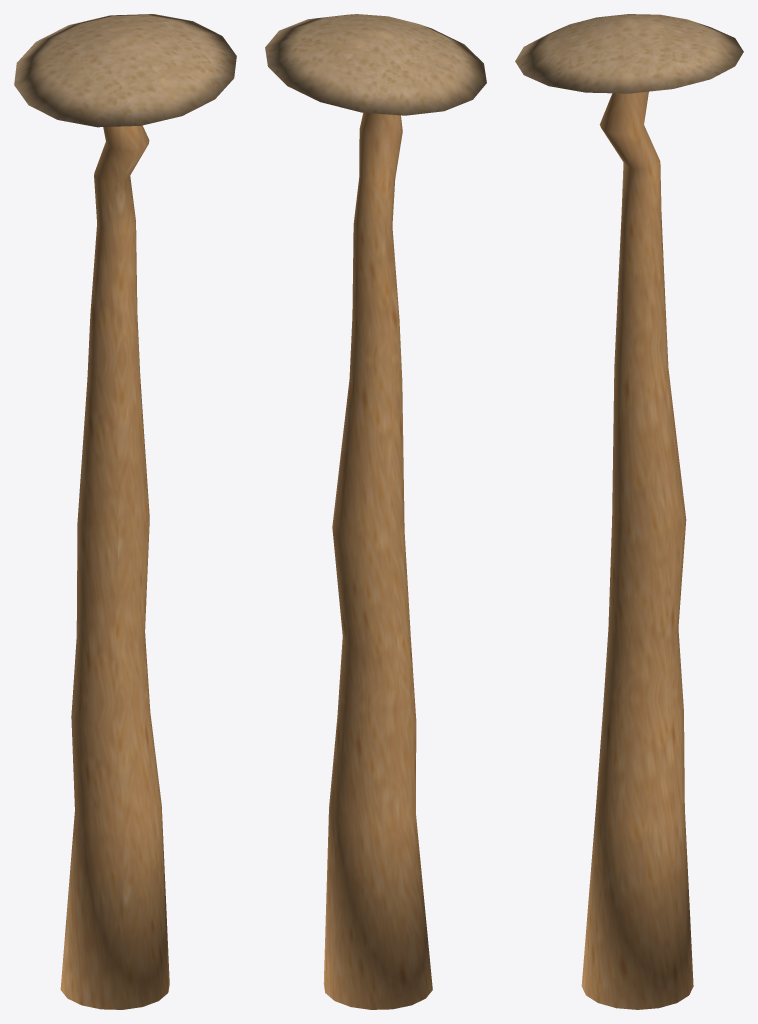
Rendered from GiantMushroom.obj.
3 renders of one model, left to right at view 1: azimuth 30°, elevation 25°; view 2: azimuth 150°, elevation 25°; view 3: azimuth 270°, elevation 25°, orthographic.
Visible parts, largest first — view 1: Plane; view 2: Plane; view 3: Plane.
Boxes of the visible parts, x1,y1,x2,y2 form: Plane: [14, 14, 236, 1009]; Plane: [265, 14, 486, 1009]; Plane: [515, 14, 743, 1009].
Bounding box in the file's own units: 0.3941 × 1.85 × 0.396.
Materials: 2 (2 with a texture image).
